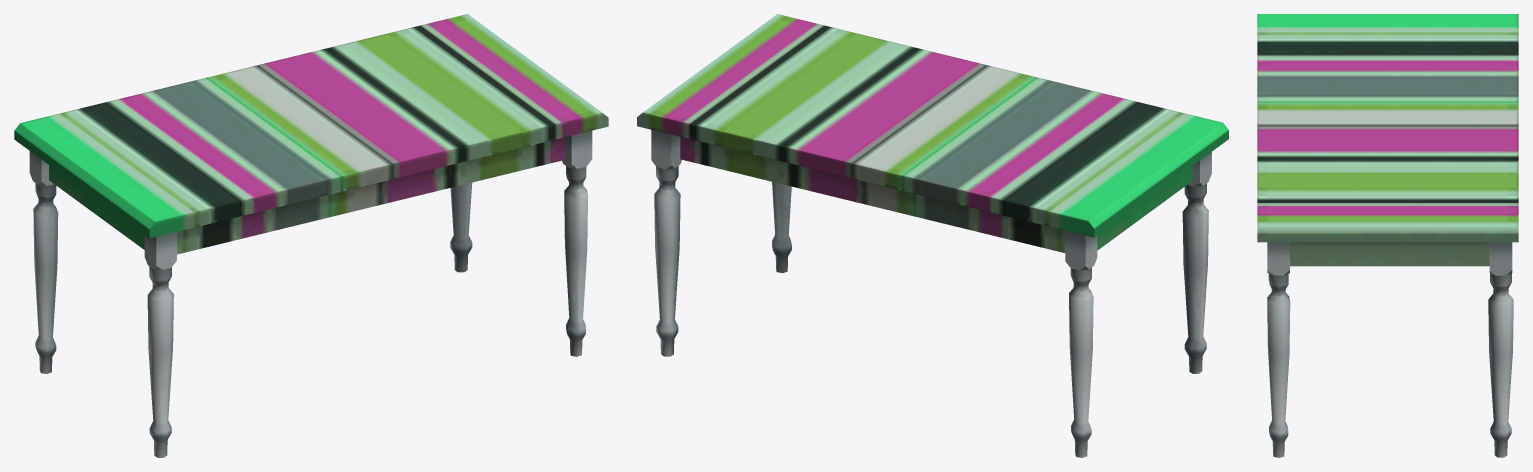
Rendered from furni_0200606_03.FBX.
3 views of the same model, side by side, from view 1: azimuth 30°, elevation 25°; view 2: azimuth 150°, elevation 25°; view 3: azimuth 270°, elevation 25° (orthographic). The views are drawn at different scales.
Parts seen in each view (by area): view 1: furni_0200606_03; view 2: furni_0200606_03; view 3: furni_0200606_03.
Part boxes in pixels (bbox=[...]): furni_0200606_03: bbox=[14, 14, 608, 457]; furni_0200606_03: bbox=[637, 14, 1228, 457]; furni_0200606_03: bbox=[1257, 14, 1518, 457].
Size of the model in its own units: 157 by 80.16 by 80.
Materials: 1 (1 with a texture image).
